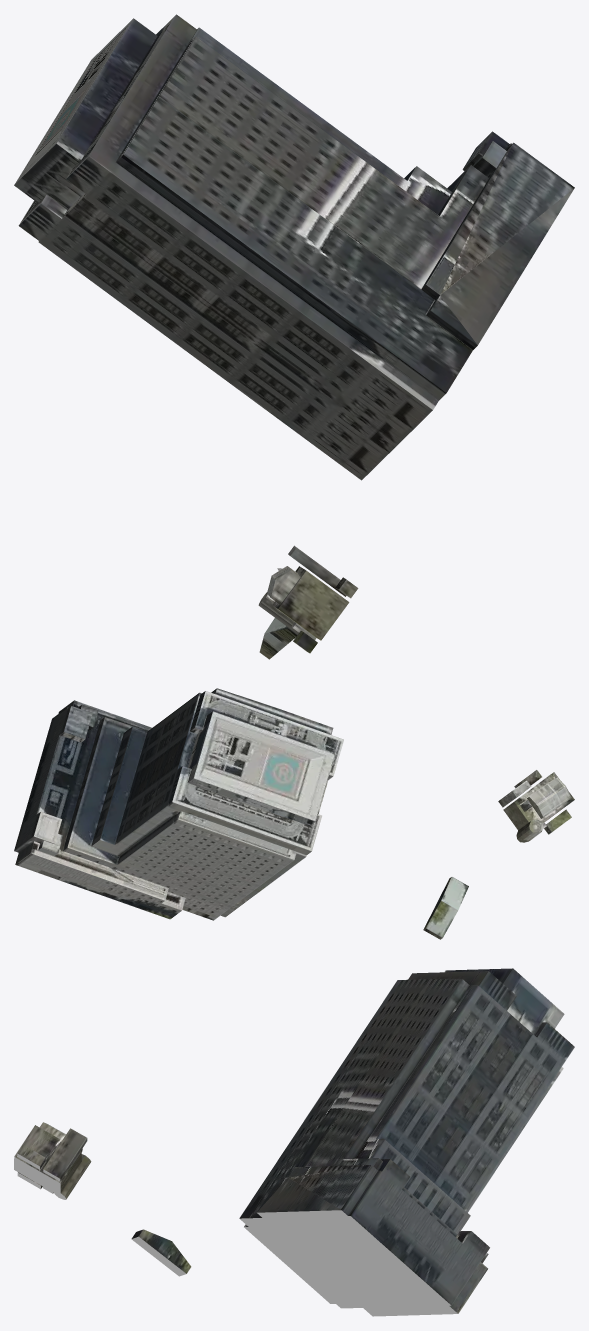
File: data589.glb
The picture shows the model from 3 angles, top to bottom: view 1: azimuth 30°, elevation 25°; view 2: azimuth 150°, elevation 25°; view 3: azimuth 270°, elevation 25°; orthographic projection. The views are drawn at different scales.
Bounding box in the file's own units: 107 × 93.81 × 137.
Materials: 2 (1 with a texture image).
